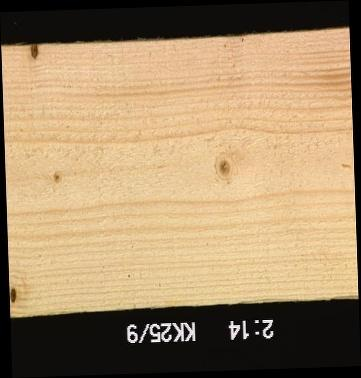dry_knot: (8, 286, 19, 307)
edge_knot: (28, 44, 40, 62)
small_knot: (49, 168, 63, 185)
sound_knot: (213, 154, 236, 182)
wave: (219, 294, 357, 302)
